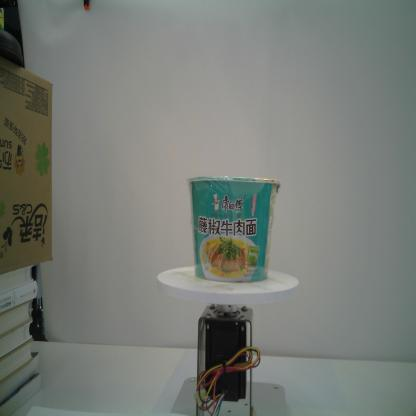Instant Noodles: (186, 174, 284, 286)
